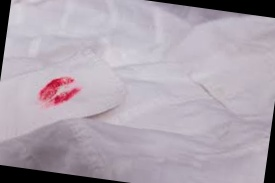lipstick: (38, 74, 84, 111)
